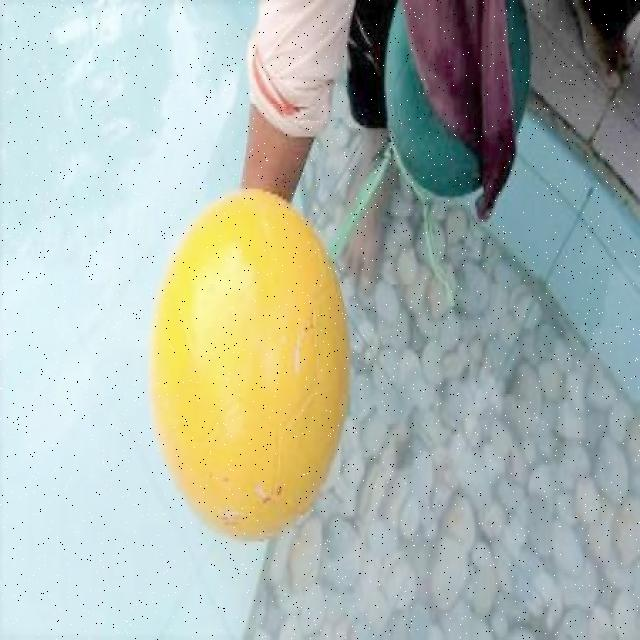buoy: (146, 183, 349, 539)
